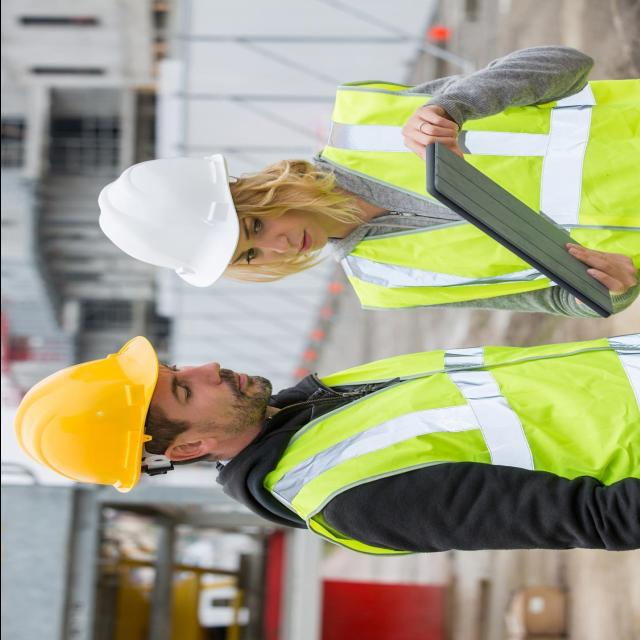helmet: (10, 333, 162, 491), (79, 142, 235, 295)
jacket: (277, 321, 640, 572), (312, 60, 640, 316)
